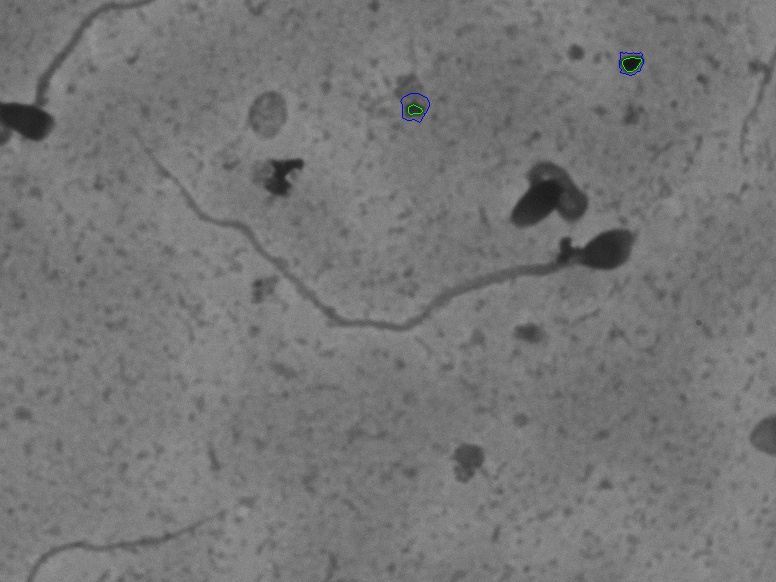Abnormal: (100, 115, 658, 392), (494, 127, 596, 227)
